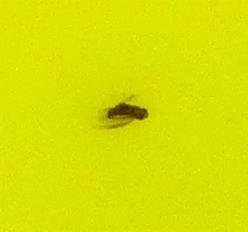Hemiptera: (100, 100, 148, 132)
